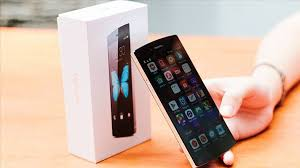bphone: (127, 32, 238, 167)
